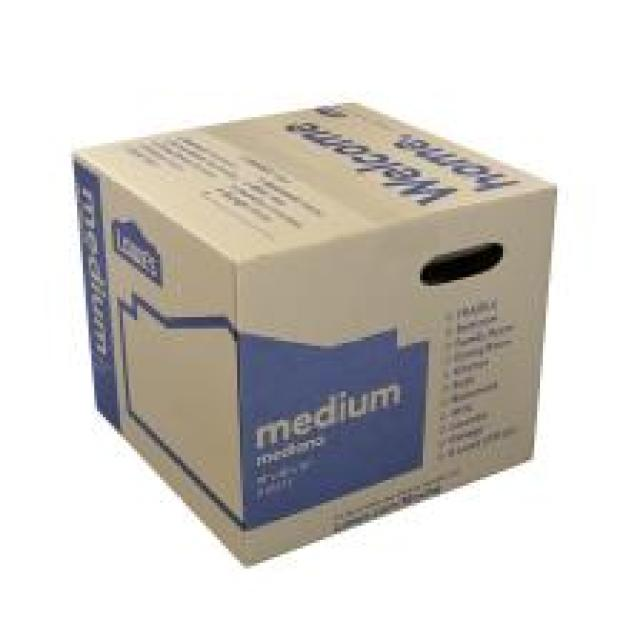box: (72, 101, 558, 567)
normal_hole: (416, 239, 507, 287)
